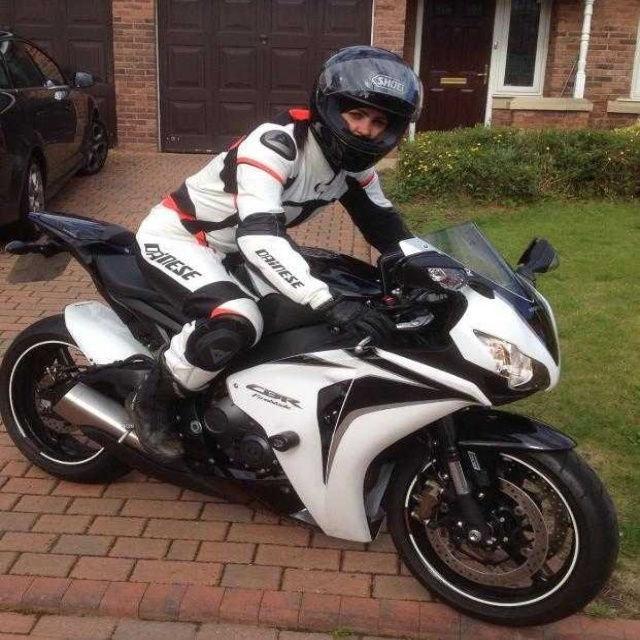Car: (1, 29, 110, 242)
Motorcycle: (1, 195, 619, 628)
